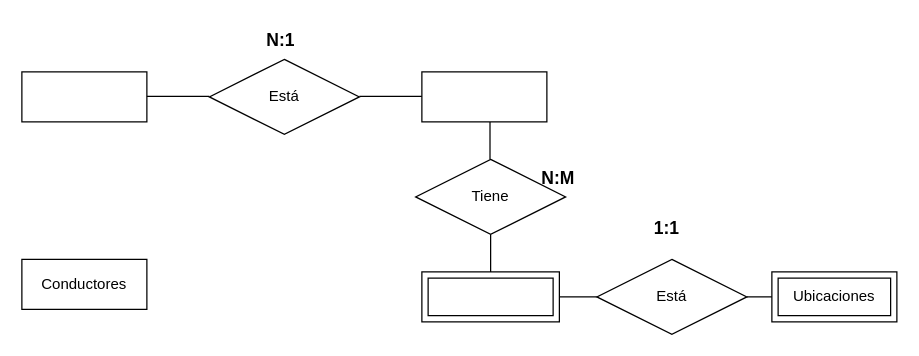
Some shapes in this 919 by 356 pixel diagram are drawn without their labels. The shapes that lost their labels are listed below. From the top down, each one's centre as x and y in pixels, then its label:
[84,96]: Trenes
[484,96]: Lineas
[490,296]: Estaciones
